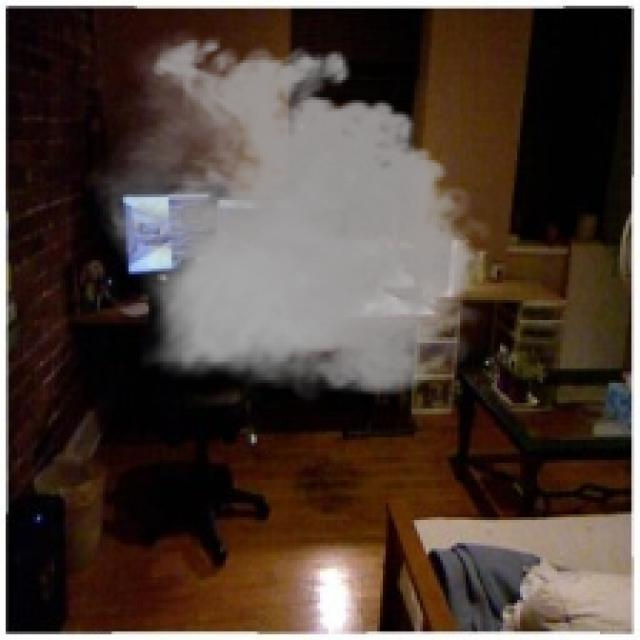smoke: (86, 26, 500, 408)
